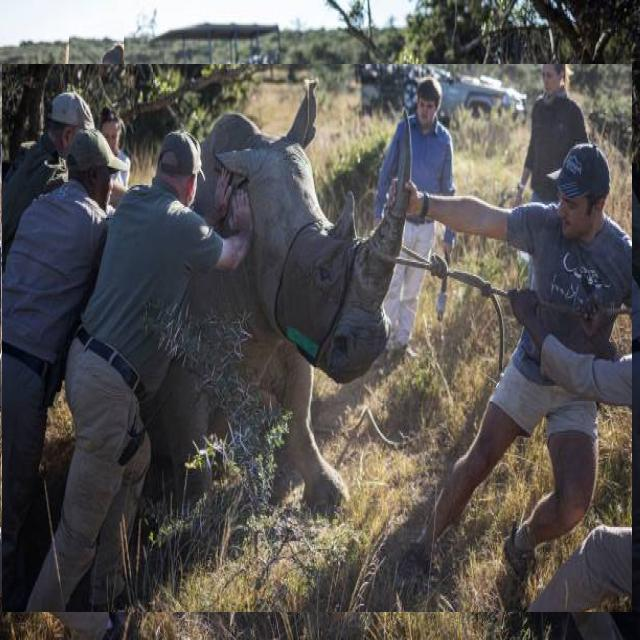p_collect: (175, 72, 483, 424)
p_export: (2, 64, 632, 612)
poacher: (1, 144, 223, 546), (382, 111, 532, 624), (509, 128, 578, 470), (69, 19, 124, 193), (170, 72, 266, 171), (542, 80, 624, 146)
